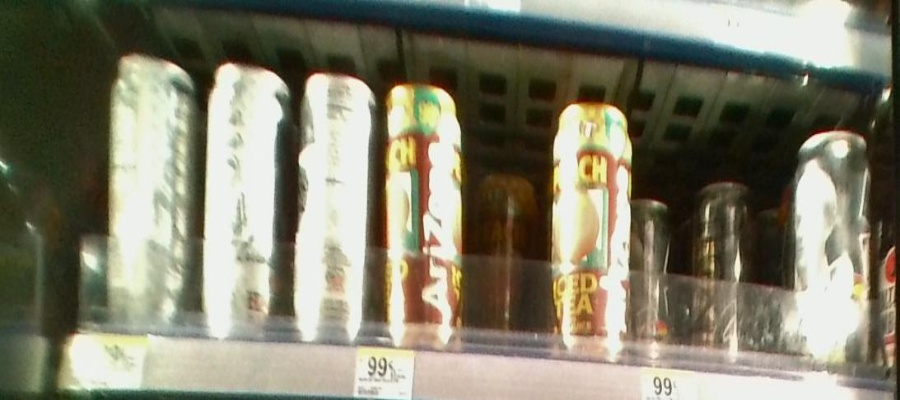bottle: (101, 44, 200, 337), (204, 42, 290, 342), (295, 47, 376, 353), (547, 82, 635, 361), (382, 73, 468, 343), (794, 122, 874, 369), (478, 154, 538, 354), (693, 172, 753, 371), (637, 189, 676, 354)
